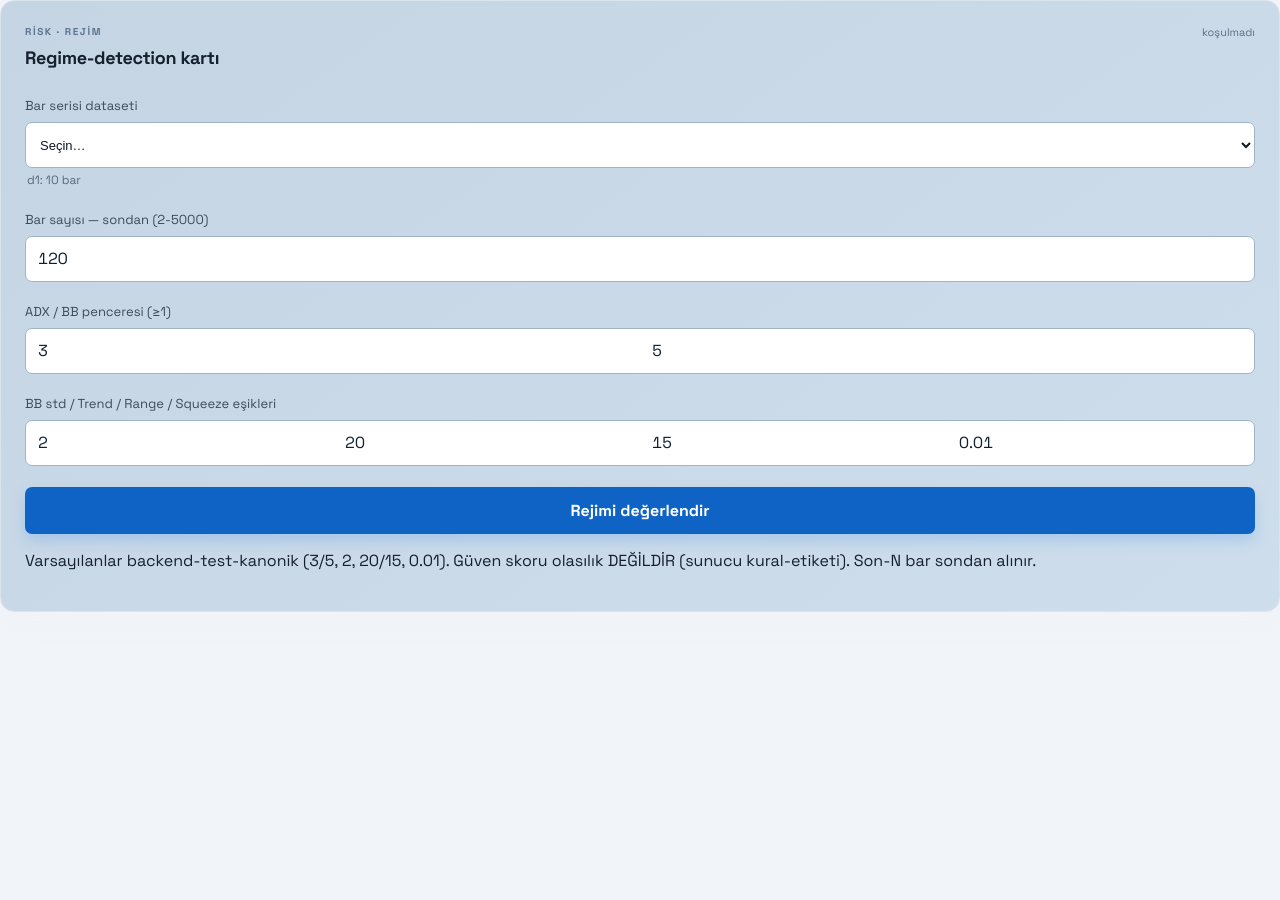
Test: AA.8 regime kartı › bozuk girdi POST'lamaz
The width and height of the screenshot is (1280, 900).
Replace the text in the field named "Trend eşiği" with "abc" at (486, 443), box [333,421,640,464]
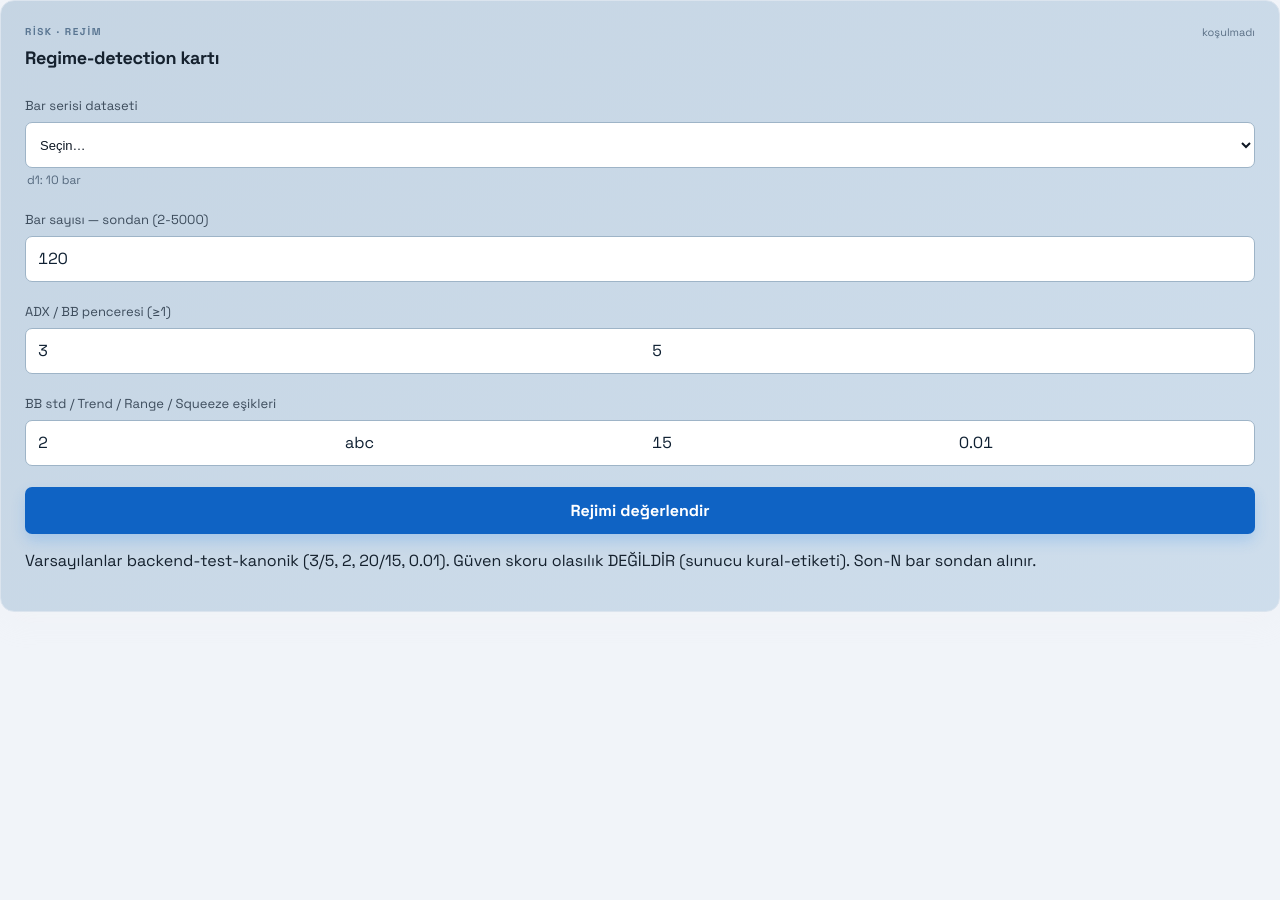
Click the button "Rejimi değerlendir" at (640, 510), box [25,487,1255,534]
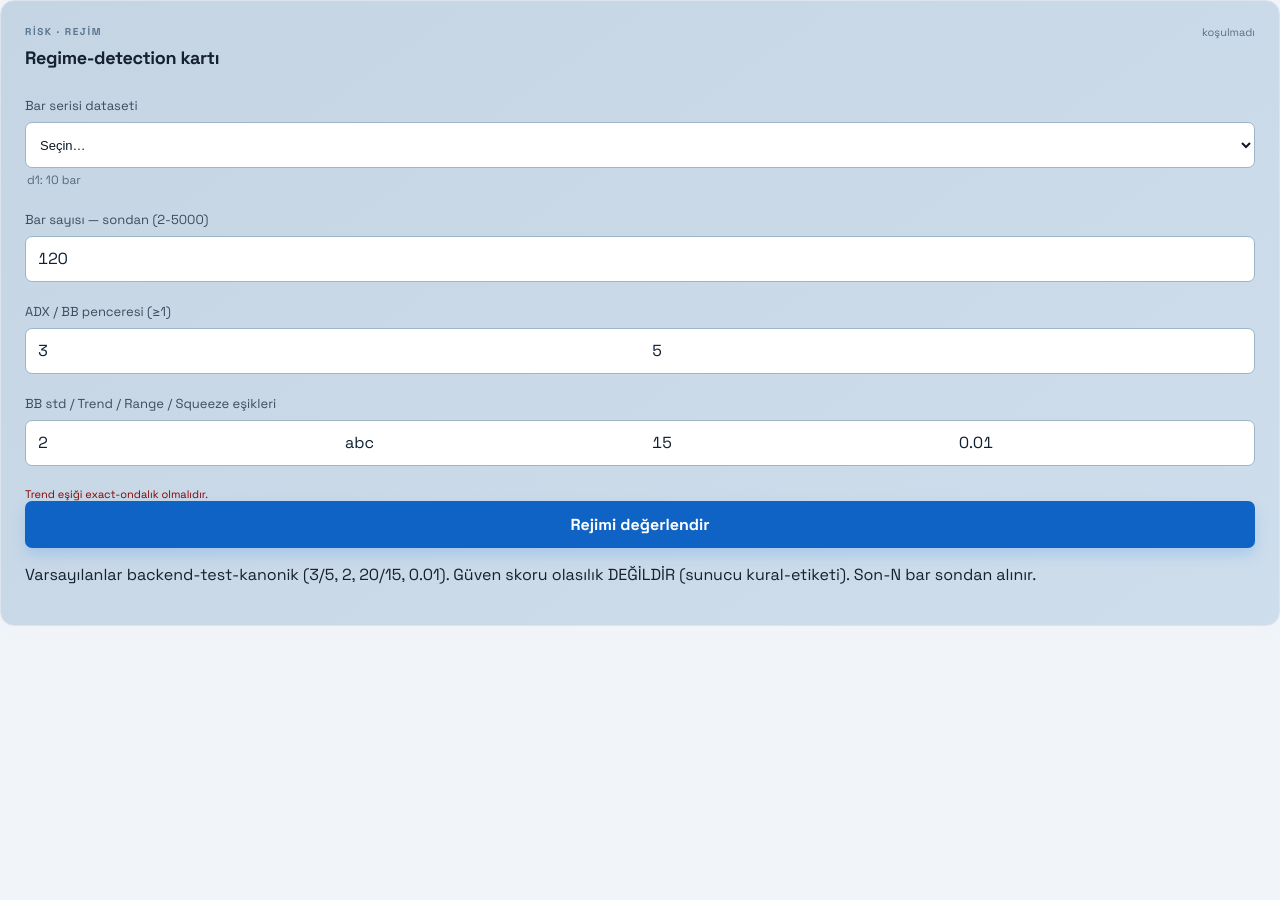
Expected: the message shows "exact-ondalık", [25,487,208,501]
